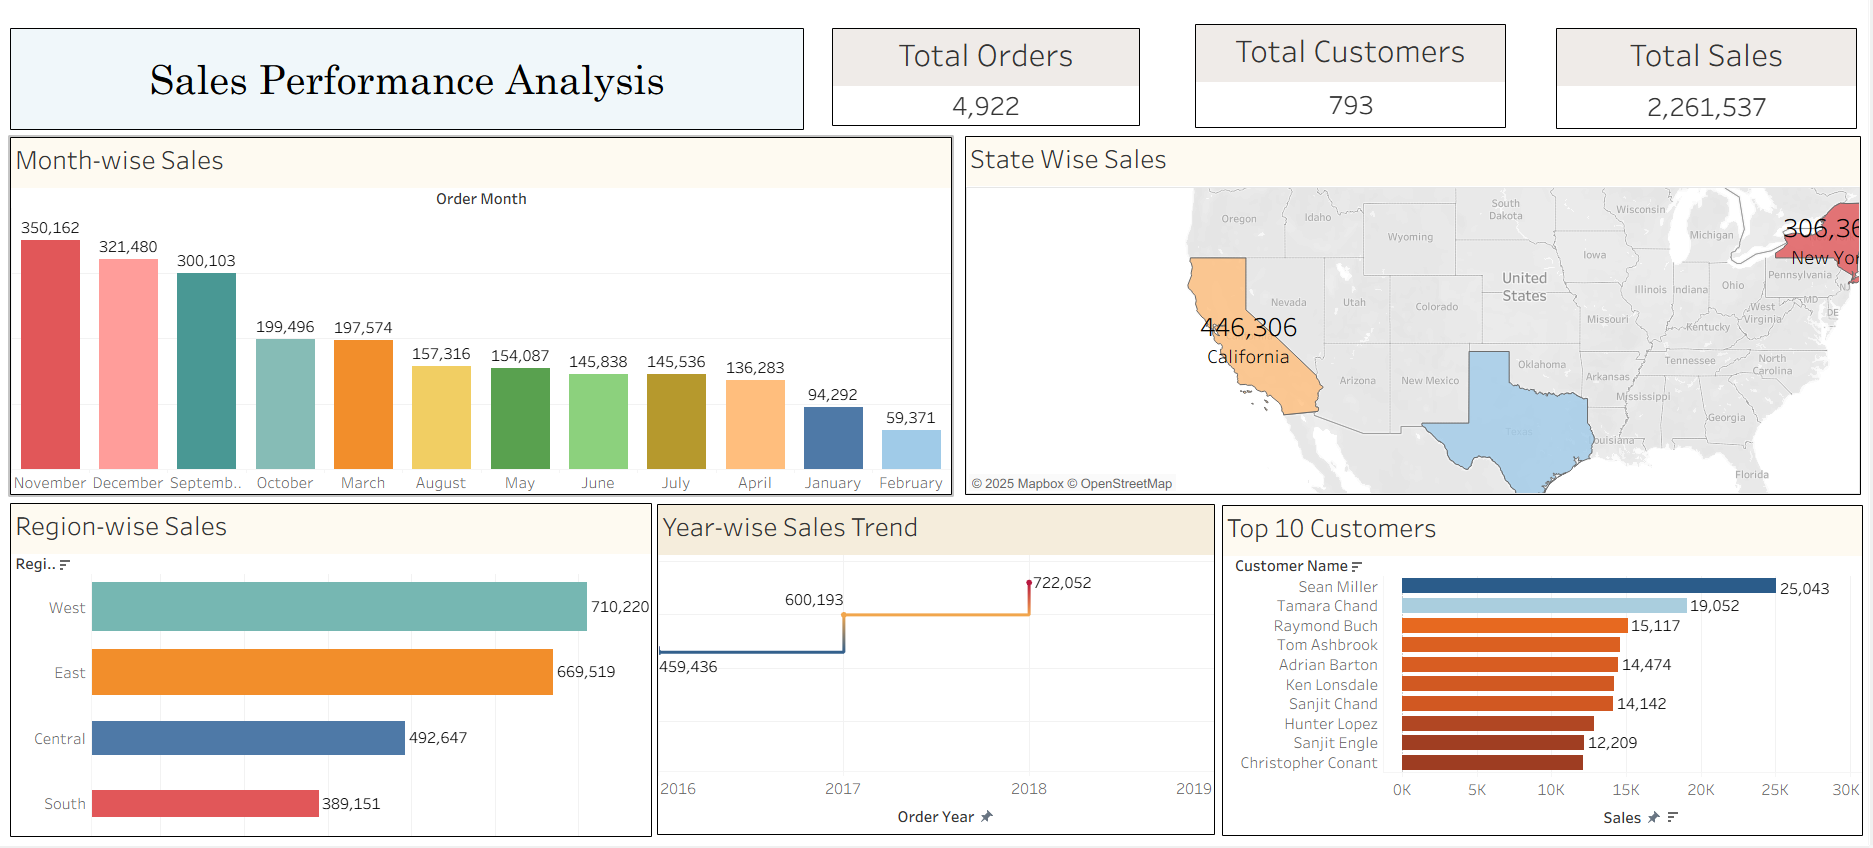

The page's visual inventory and layout, read from the dashboard file:
{"tool":"tableau","page":{"name":"Sale Performance","canvas":[1000,1000],"units":"permille","ordinal":0},"visuals":[{"type":"worksheet","title":"Total Orders","mark":"Automatic","box":[451,26,163.2,124.3]},{"type":"worksheet","title":"Total Customers","mark":"Automatic","box":[643.4,28.4,164.8,123.1]},{"type":"text","box":[15.4,33.1,420.8,114.8]},{"type":"worksheet","title":"Total Sales","mark":"Automatic","box":[834.7,33.1,159.5,119.5]},{"type":"worksheet","title":"State Wise Sales","mark":"Multipolygon","box":[521.5,161,474.8,424.9]},{"type":"worksheet","title":"Month-wise Sales","mark":"Automatic","rows":["Sales"],"cols":["Calculation_464152256301023237"],"box":[15.4,162.1,499.1,423.7]},{"type":"worksheet","title":"Region-wise Sales","mark":"Automatic","rows":["Region"],"cols":["Sales"],"box":[15.4,595.3,340.2,395.3]},{"type":"worksheet","title":"Year-wise Sales Trend","mark":"Line","rows":["Sales"],"cols":["Calculation_464152256300937220"],"box":[358.2,596.5,295.7,391.7]},{"type":"worksheet","title":"Top 5 Customers","mark":"Bar","rows":["Customer Name"],"cols":["Sales"],"box":[657.7,597.6,339.7,391.7]}]}

Visuals, with their boxes on the dashboard's canvas, which has no fixed pixel size, in thousandths of its width and height (x1, y1, x2, y2). These are canvas units, not pixel positions in the 1873x848 screenshot, which may show the page scaled, cropped or inside an application window:
"Total Orders" worksheet: detection(451, 26, 614, 150)
"Total Customers" worksheet: detection(643, 28, 808, 152)
text: detection(15, 33, 436, 148)
"Total Sales" worksheet: detection(835, 33, 994, 153)
"State Wise Sales" worksheet (Multipolygon marks): detection(522, 161, 996, 586)
"Month-wise Sales" worksheet: detection(15, 162, 514, 586)
"Region-wise Sales" worksheet: detection(15, 595, 356, 991)
"Year-wise Sales Trend" worksheet (Line marks): detection(358, 596, 654, 988)
"Top 5 Customers" worksheet (Bar marks): detection(658, 598, 997, 989)
